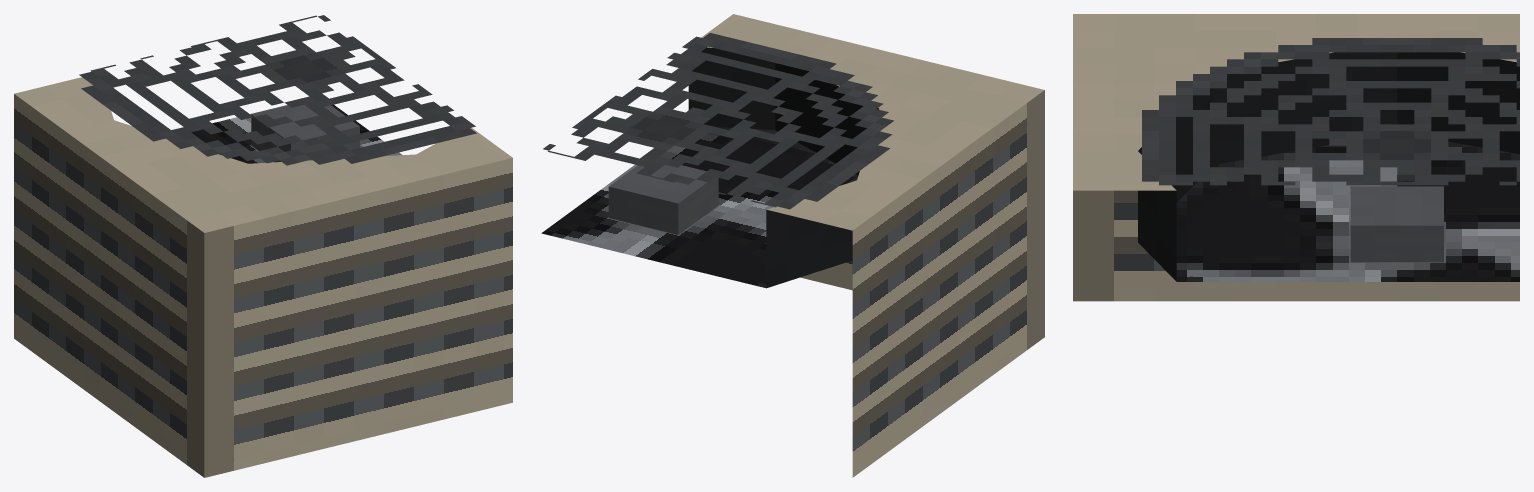
Rendered from rtu_large_xm1_y1_z4.obj.
3 renders of one model, left to right at view 1: azimuth 30°, elevation 25°; view 2: azimuth 150°, elevation 25°; view 3: azimuth 270°, elevation 25°, orthographic. The views are drawn at different scales.
Visible parts, largest first — view 1: unit; view 2: unit; view 3: unit.
Boxes of the visible parts, x1,y1,x2,y2 form: unit: (14, 15, 512, 477); unit: (541, 14, 1044, 477); unit: (1073, 14, 1519, 301).
Bounding box in the file's own units: 0.9062 × 0.7 × 0.9688.
